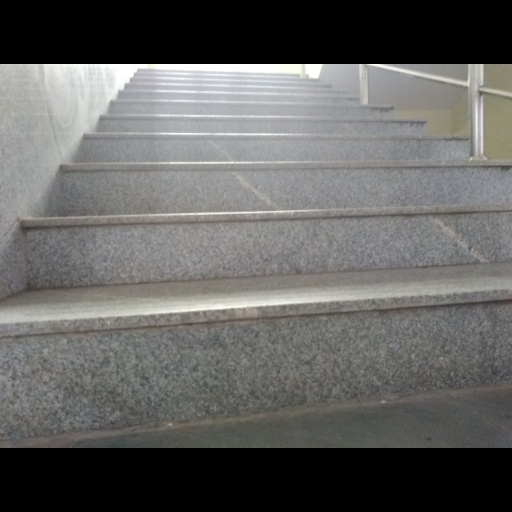Stairs: (0, 70, 512, 440)
